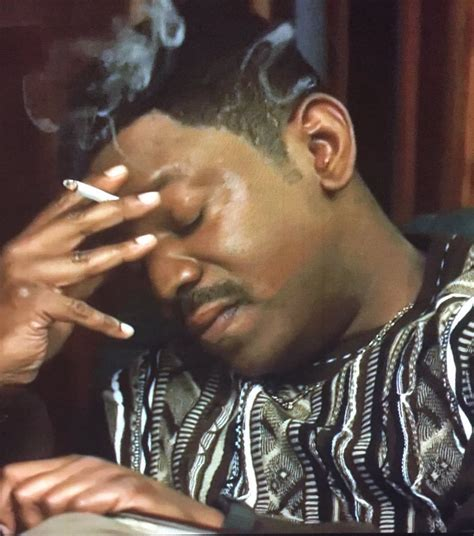cigarette: (63, 178, 118, 202)
